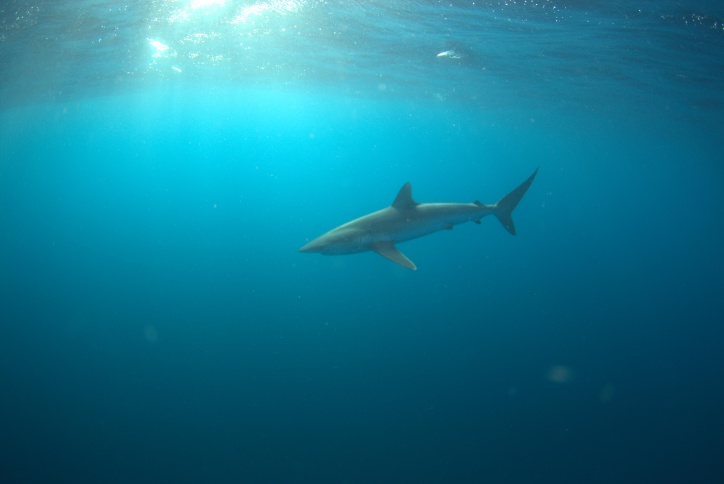Sedoso: (290, 161, 555, 273)
